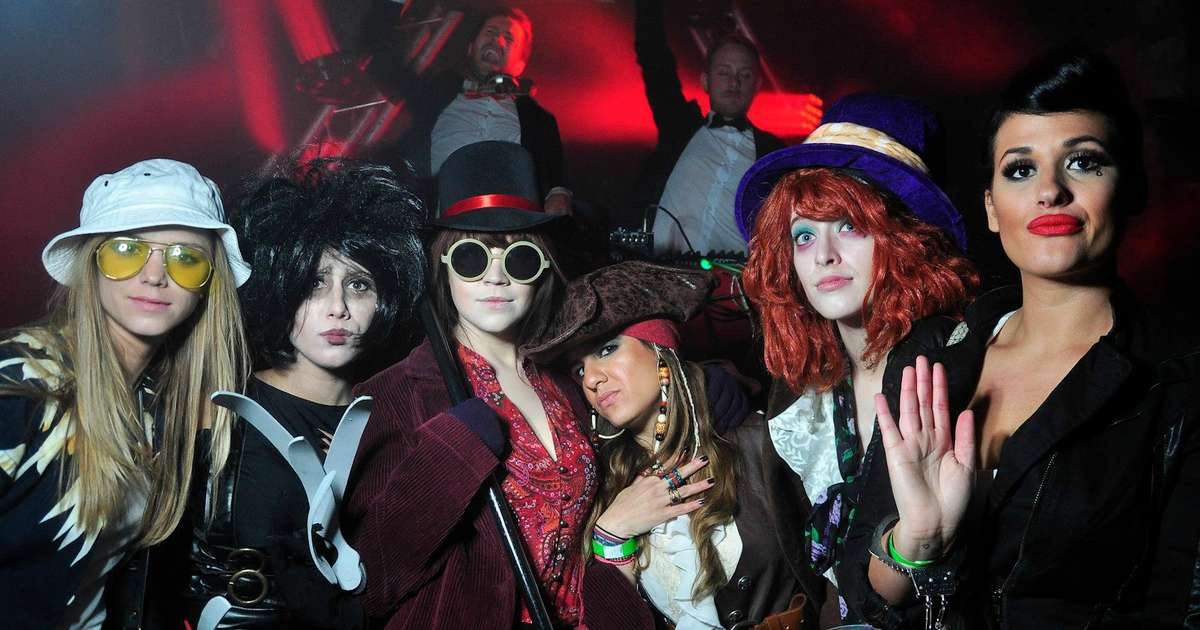bad: (975, 116, 1130, 270), (103, 223, 211, 331), (772, 199, 880, 307), (438, 223, 545, 331), (295, 265, 384, 355), (705, 61, 757, 113)
